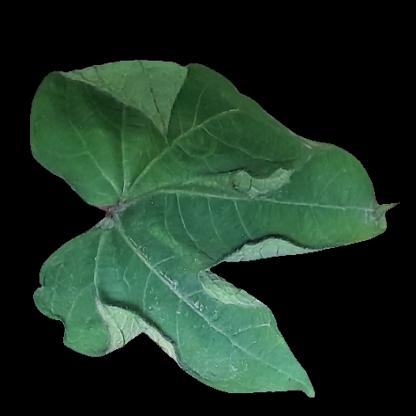curl_stage2: (66, 73, 204, 144), (87, 295, 195, 352), (201, 217, 307, 254), (226, 164, 291, 200), (195, 277, 249, 308)
healthy: (310, 163, 370, 238), (121, 247, 179, 299), (123, 206, 208, 237), (249, 340, 294, 389), (64, 242, 111, 288)
